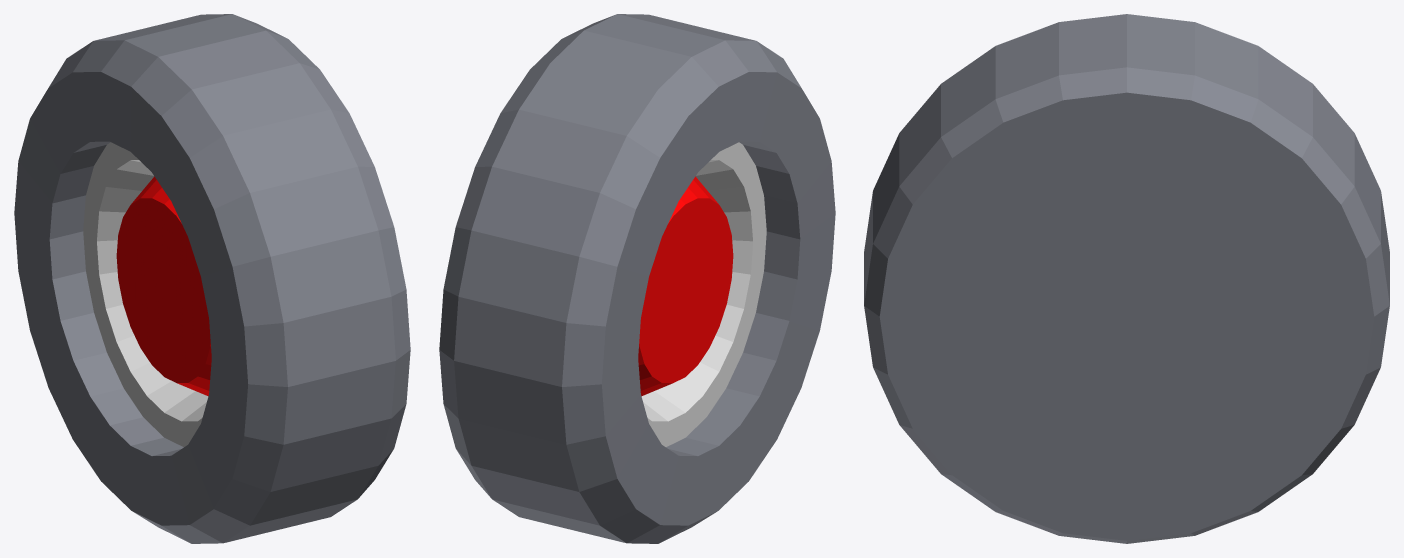
The model's file is Wheel.fbx.
The picture shows the model from 3 angles, left to right: view 1: azimuth 30°, elevation 25°; view 2: azimuth 150°, elevation 25°; view 3: azimuth 270°, elevation 25°; orthographic projection.
Parts seen in each view (by area): view 1: wheel_classic.001; view 2: wheel_classic.001; view 3: wheel_classic.001.
Part boxes in pixels (bbox=[...]): wheel_classic.001: bbox=[14, 14, 410, 543]; wheel_classic.001: bbox=[439, 14, 835, 543]; wheel_classic.001: bbox=[864, 14, 1389, 543].
Size of the model in its own units: 21.63 by 61.6 by 61.6.
